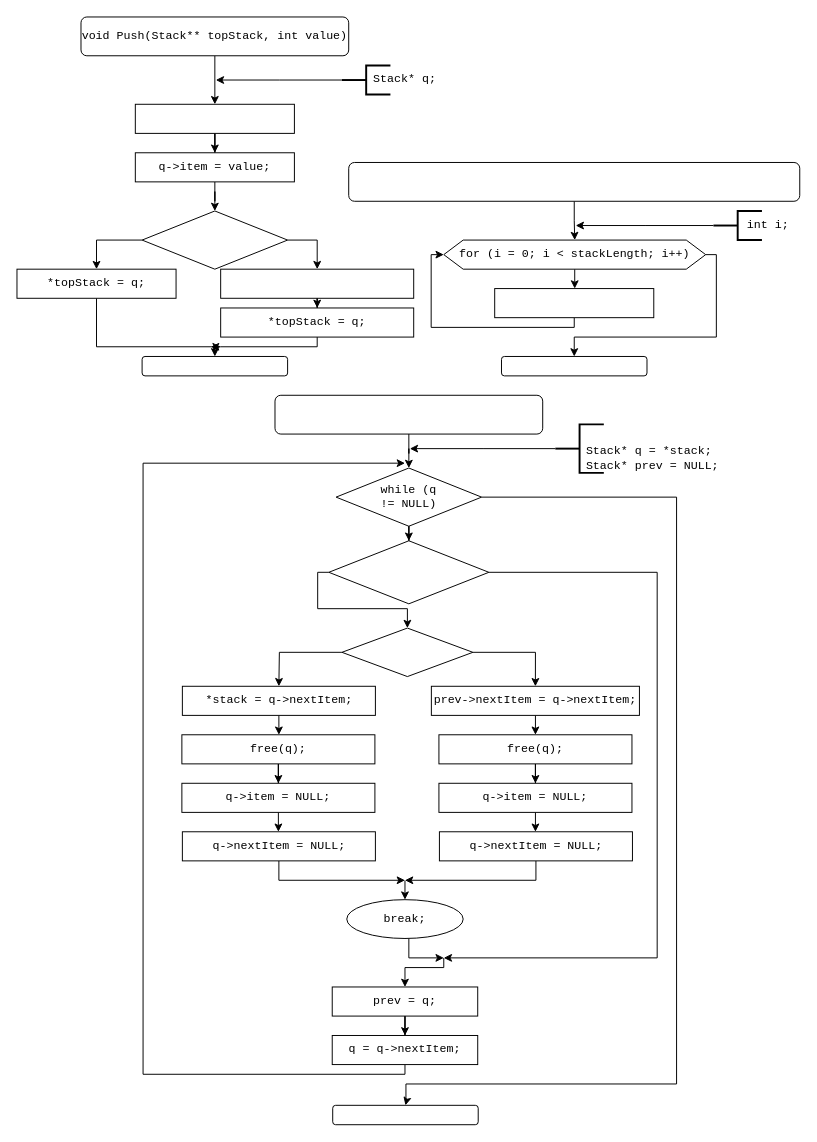
The diagram is 817 pixels wide and 1142 high, and some of its shapes have lost their labels. The shapes that lost their labels are listed below. From the top down, each one's centre as x and y in pixels, then its label:
At [214,118]: "q = new Stack();".
At [574,181]: "void InitiateNewRandomStack(Stack** stack ,int stackLength)".
At [214,239]: "if (topStack == NULL)".
At [317,283]: "q->nextItem = *topStack;".
At [574,303]: "Push(stack, rand());".
At [408,414]: "void DeleteFirstOdd(Stack **stack)".
At [408,572]: "if (q->item % 2 == 0)".
At [407,652]: "if (q == *stack)".
